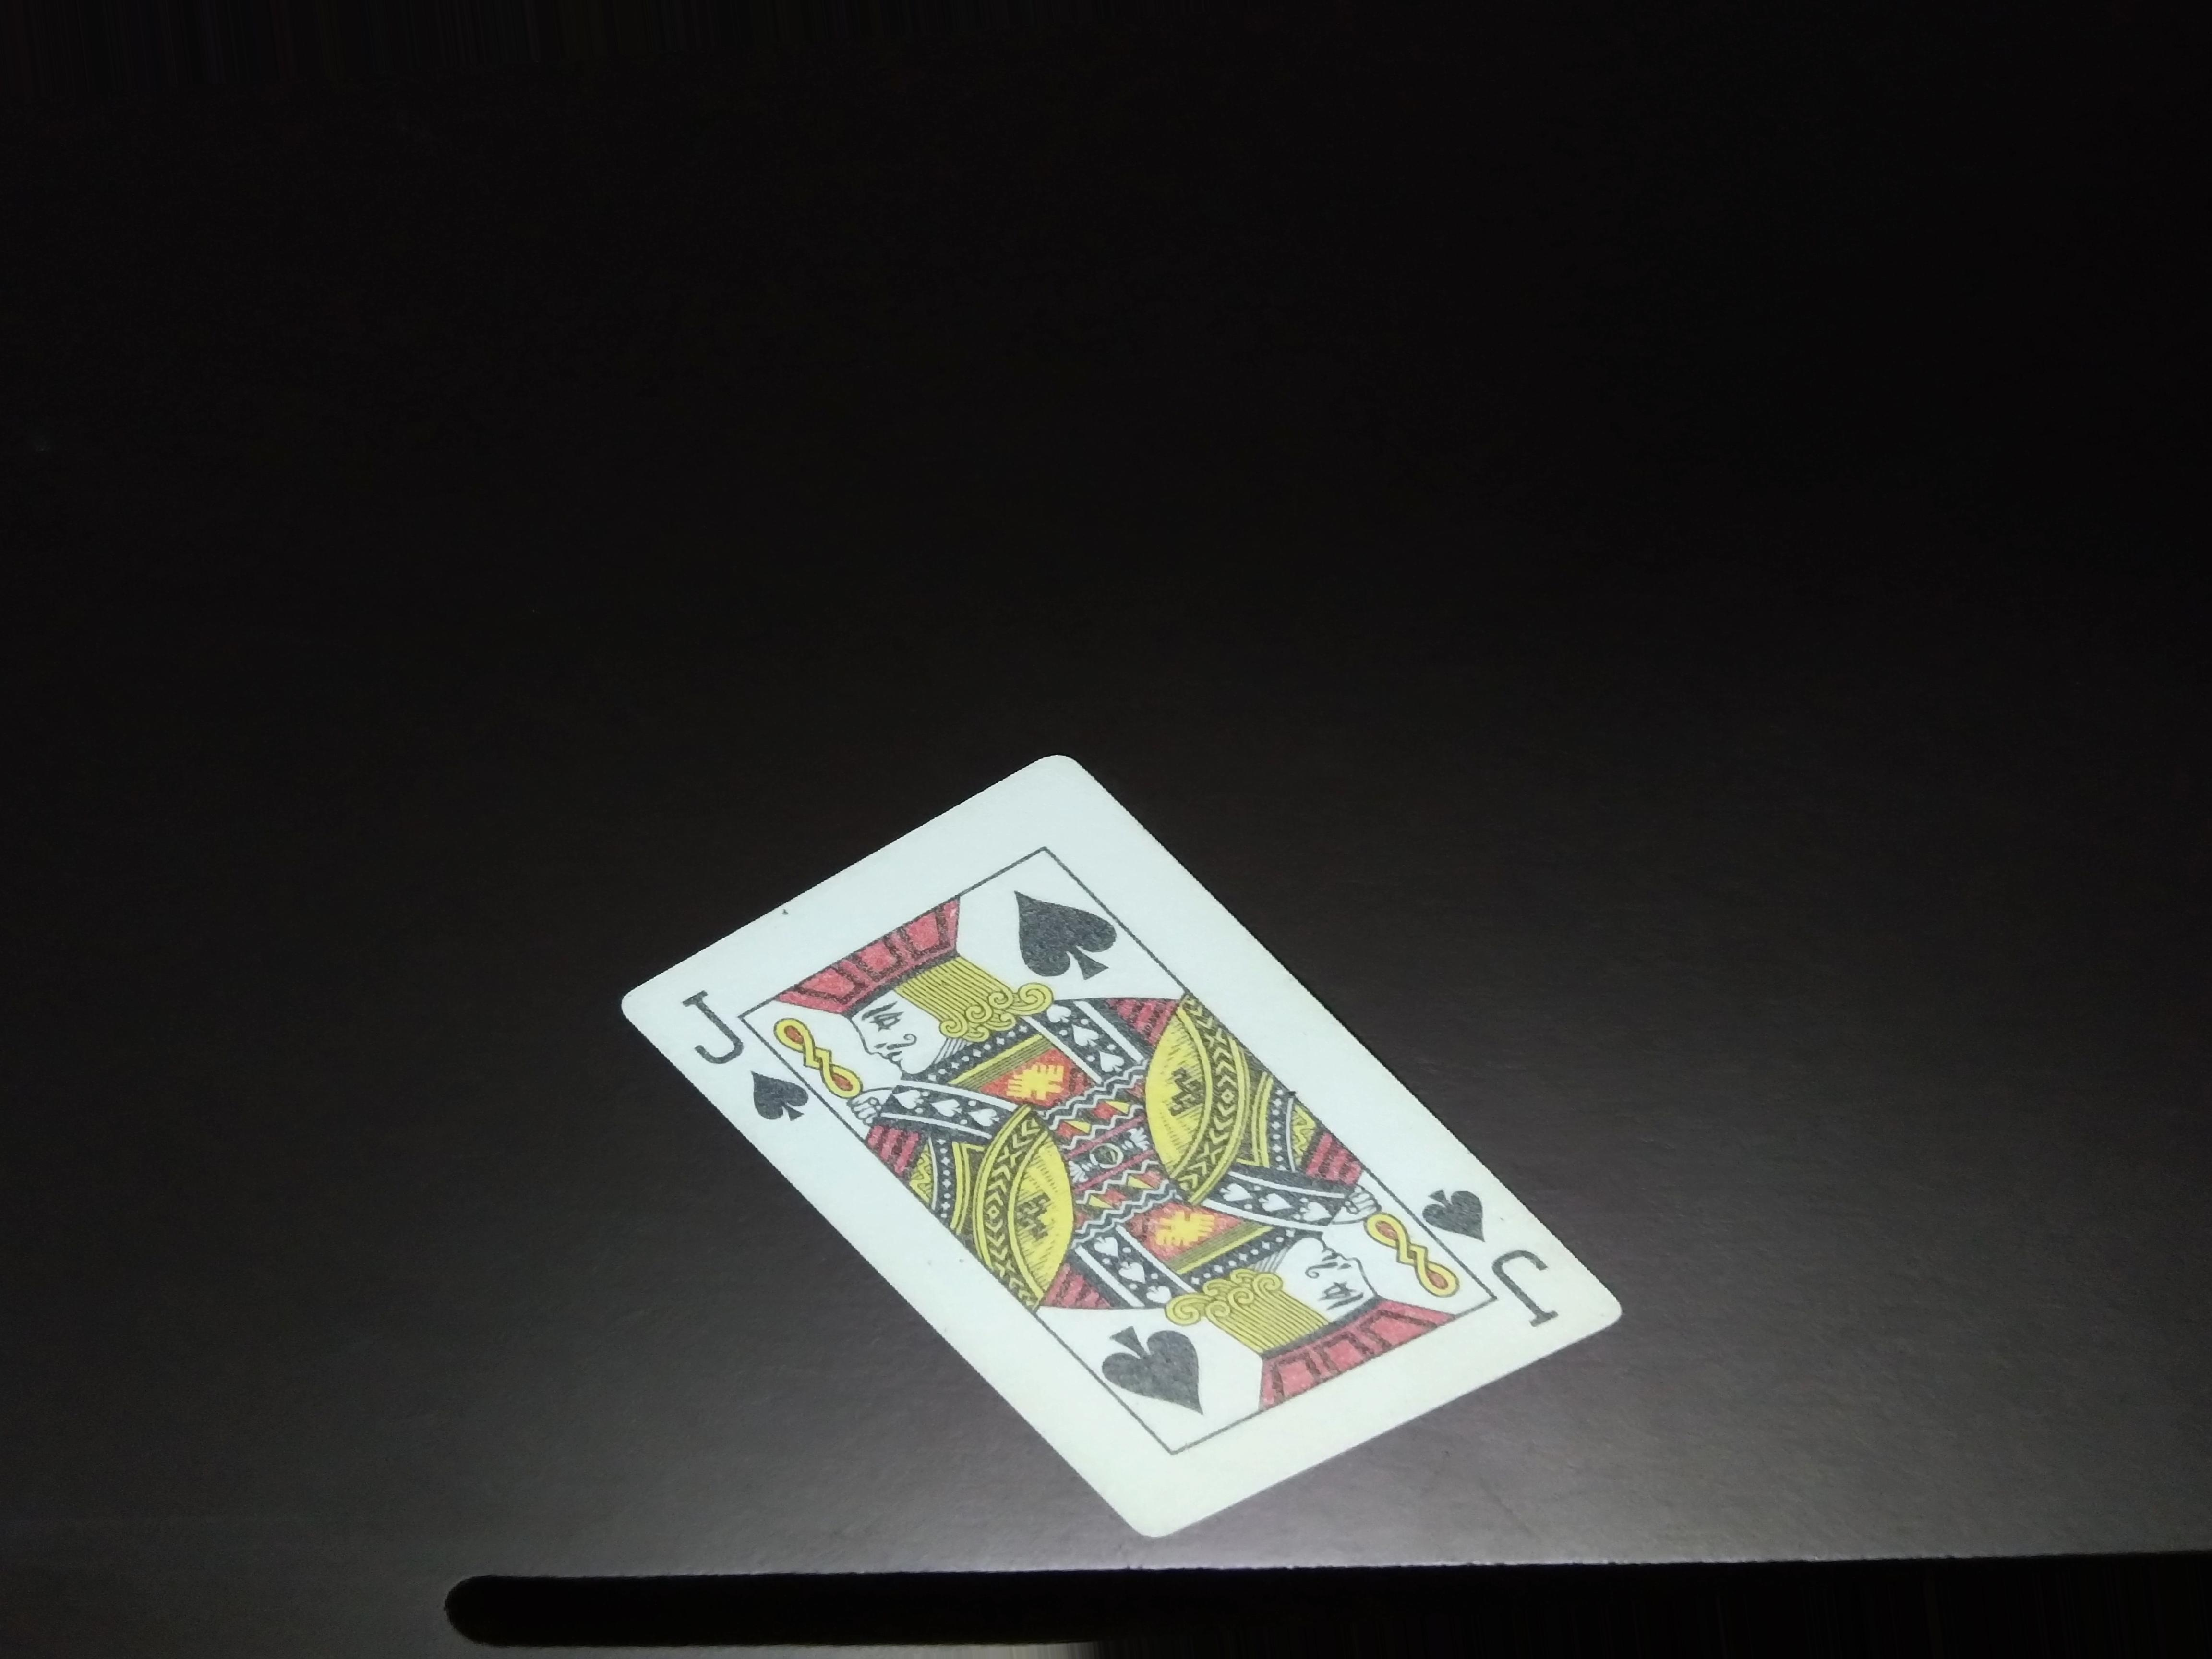JS: (674, 969, 810, 1133)
